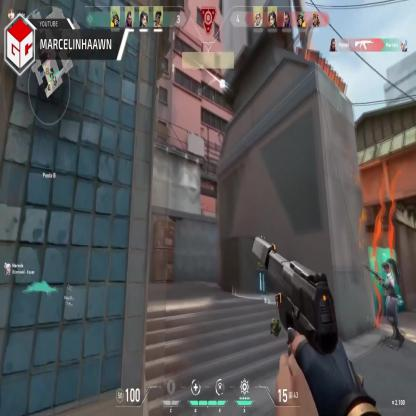enemy: (200, 202, 204, 217)
enemy_head: (201, 203, 203, 207)
